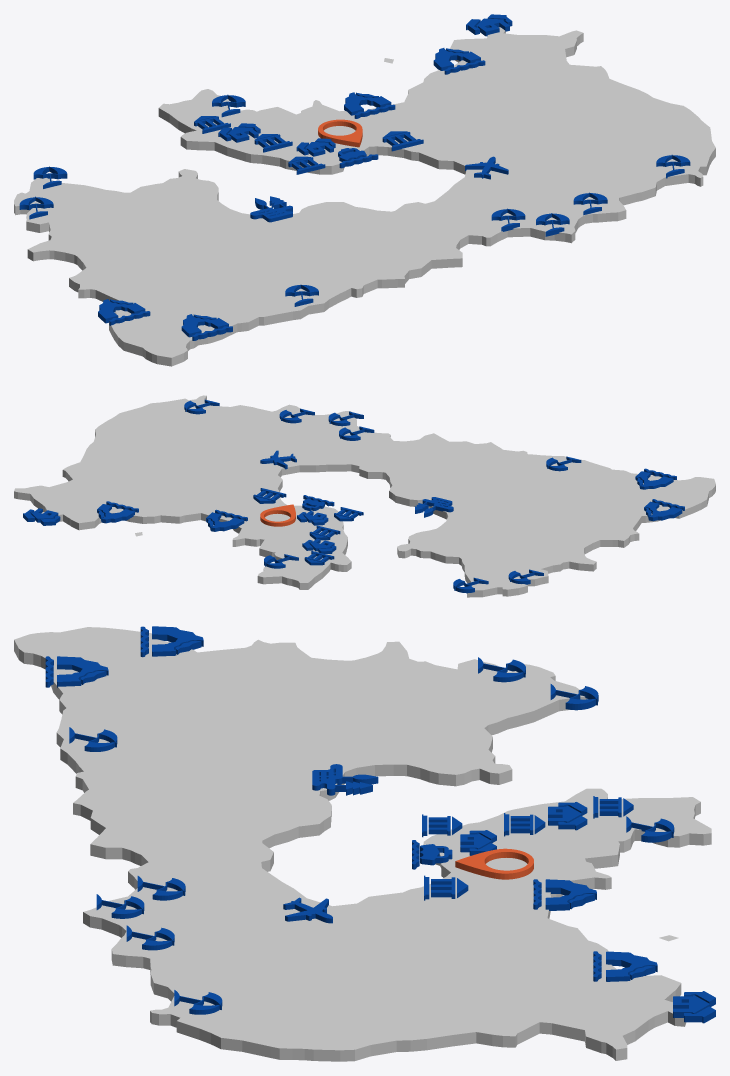
The model's file is Milos_Island_v01.glb.
3 renders of one model, top to bottom at view 1: azimuth 30°, elevation 25°; view 2: azimuth 150°, elevation 25°; view 3: azimuth 270°, elevation 25°, orthographic. The views are drawn at different scales.
Parts seen in each view (by area): view 1: Milos, welcome_tranfer_location, Park, Apartment_2, Apartment_3, Cave_3, Cave_4, Cave_2, Cave_1; view 2: Milos, welcome_tranfer_location, Park, Apartment_2, Cave_2, Cave_4, Cave_3, Cave_1, Apartment_3, Meuseum_2; view 3: Milos, welcome_tranfer_location, Park, Apartment_2, Cave_4, Cave_3, Cave_2, Cave_1, Apartment_3, Airport, Meuseum_2, Apartment_1 (+10 smaller).
Boxes of the visible parts, <box> form: Milos: <box>14,27,715,366</box>; welcome_tranfer_location: <box>318,119,362,147</box>; Park: <box>250,196,292,222</box>; Apartment_2: <box>466,14,512,36</box>; Apartment_3: <box>218,123,260,142</box>; Cave_3: <box>433,48,480,70</box>; Cave_4: <box>344,92,391,115</box>; Cave_2: <box>98,299,145,323</box>; Cave_1: <box>181,314,228,337</box>; Milos: <box>14,395,715,597</box>; welcome_tranfer_location: <box>260,504,295,526</box>; Park: <box>415,497,453,517</box>; Apartment_2: <box>23,508,60,525</box>; Cave_2: <box>644,501,682,521</box>; Cave_4: <box>206,512,244,531</box>; Cave_3: <box>97,504,134,523</box>; Cave_1: <box>635,471,673,489</box>; Apartment_3: <box>302,538,336,553</box>; Meuseum_2: <box>253,488,286,503</box>; Milos: <box>14,627,711,1061</box>; welcome_tranfer_location: <box>455,848,533,879</box>; Park: <box>312,764,378,795</box>; Apartment_2: <box>673,991,715,1023</box>; Cave_4: <box>545,879,596,910</box>; Cave_3: <box>606,951,657,981</box>; Cave_2: <box>152,626,203,656</box>; Cave_1: <box>57,656,108,687</box>; Apartment_3: <box>548,802,587,830</box>; Airport: <box>283,897,332,923</box>; Meuseum_2: <box>424,875,468,900</box>; Apartment_1: <box>460,830,496,855</box>.
Bounding box in the file's own units: 0.4262 × 0.00818 × 0.2987.
